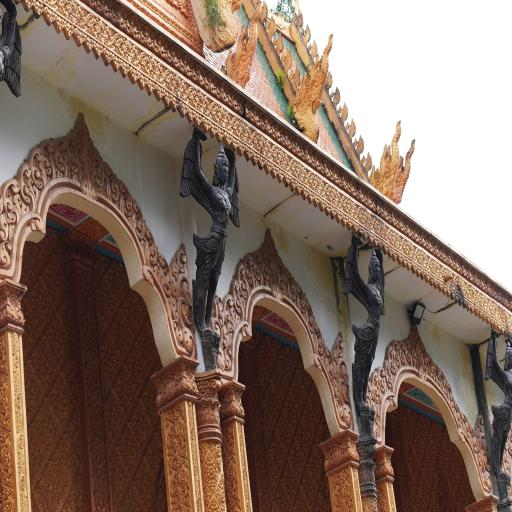la: (73, 112, 95, 178), (16, 159, 40, 213), (87, 11, 113, 50), (114, 31, 140, 69), (25, 144, 46, 190), (262, 228, 278, 288), (164, 67, 189, 104), (1, 180, 22, 224), (87, 441, 109, 483), (65, 131, 83, 182), (72, 230, 96, 268), (80, 314, 100, 358), (83, 354, 103, 398), (86, 397, 106, 441), (0, 427, 15, 485), (102, 156, 120, 204), (322, 435, 350, 464), (38, 138, 57, 180), (141, 50, 163, 86), (60, 0, 87, 29), (143, 217, 158, 269), (332, 477, 355, 510), (7, 285, 25, 327), (78, 272, 96, 314), (91, 142, 106, 192), (229, 277, 246, 321), (117, 173, 133, 219), (210, 100, 232, 132), (189, 85, 211, 116), (0, 373, 12, 427), (132, 193, 146, 239), (409, 322, 422, 371), (157, 247, 171, 292), (176, 273, 194, 308), (259, 243, 273, 287), (176, 294, 194, 328), (233, 115, 252, 147), (55, 135, 69, 178), (252, 129, 272, 159), (223, 292, 237, 334), (91, 483, 111, 512), (235, 259, 249, 298), (290, 157, 308, 186), (272, 143, 290, 172), (243, 252, 257, 289), (276, 250, 287, 295), (174, 243, 189, 275), (252, 247, 264, 287), (308, 170, 325, 198), (13, 393, 24, 436), (18, 474, 30, 512), (384, 343, 398, 375), (305, 292, 316, 332), (0, 483, 15, 512), (110, 0, 124, 31), (214, 290, 226, 326), (125, 10, 139, 40), (285, 264, 296, 302), (295, 276, 306, 314), (342, 194, 358, 220), (326, 182, 342, 208), (16, 434, 26, 475), (153, 29, 166, 60), (166, 40, 179, 70), (372, 216, 388, 240), (383, 359, 395, 391), (389, 338, 401, 370), (372, 452, 386, 479), (371, 372, 382, 406), (348, 432, 360, 463), (13, 354, 22, 395), (191, 60, 204, 88), (337, 358, 351, 384), (341, 402, 354, 430), (140, 20, 152, 50), (179, 49, 191, 79), (0, 336, 9, 376), (212, 316, 223, 348), (376, 365, 387, 397), (337, 379, 351, 404), (0, 240, 12, 269), (315, 317, 324, 355), (358, 206, 372, 230), (383, 449, 395, 477), (40, 464, 56, 485), (53, 480, 65, 508), (324, 342, 334, 375), (334, 334, 347, 359), (420, 340, 429, 376), (204, 68, 215, 97), (54, 408, 69, 429), (402, 238, 416, 260), (388, 228, 402, 250), (32, 480, 46, 502), (0, 208, 9, 242), (216, 78, 227, 105), (249, 102, 260, 129), (173, 318, 184, 345), (48, 416, 60, 440), (31, 380, 43, 404), (260, 110, 271, 136), (416, 247, 429, 269), (460, 410, 470, 438), (0, 287, 7, 326), (40, 433, 53, 454), (30, 415, 43, 436), (228, 86, 238, 113), (239, 93, 249, 120), (398, 338, 407, 368), (95, 0, 109, 19), (58, 472, 72, 491), (37, 372, 51, 391), (34, 445, 46, 467), (45, 356, 57, 378), (271, 118, 281, 144), (301, 140, 311, 166), (170, 294, 180, 320), (39, 400, 52, 420), (53, 376, 66, 396), (29, 253, 44, 270), (102, 45, 113, 68), (39, 266, 50, 289), (429, 257, 441, 278), (43, 6, 55, 27), (138, 297, 150, 318), (291, 133, 301, 158), (310, 148, 320, 173), (20, 300, 30, 325), (25, 258, 35, 283), (446, 376, 454, 407), (470, 422, 478, 453), (34, 312, 47, 331), (63, 18, 74, 40), (67, 454, 78, 476), (28, 319, 39, 341), (60, 332, 71, 354), (282, 126, 292, 150), (320, 156, 330, 180), (338, 168, 348, 192), (466, 283, 478, 303), (454, 275, 466, 295), (178, 98, 188, 122), (427, 350, 435, 380), (454, 398, 462, 428), (30, 492, 42, 512), (72, 445, 84, 465), (43, 296, 53, 320), (48, 286, 60, 306), (52, 348, 66, 365), (499, 308, 512, 326), (96, 252, 109, 270), (97, 278, 110, 296), (404, 337, 412, 366), (478, 291, 489, 312), (442, 265, 453, 286), (46, 388, 57, 409), (28, 352, 39, 373), (61, 364, 71, 387), (44, 326, 54, 349), (32, 0, 44, 19), (56, 437, 68, 456), (36, 339, 48, 358), (32, 278, 44, 297), (433, 359, 441, 387), (489, 299, 500, 319), (84, 34, 94, 56), (93, 40, 103, 62), (129, 64, 139, 86), (11, 332, 21, 354), (49, 452, 60, 472), (56, 272, 66, 294), (101, 305, 112, 325), (329, 162, 338, 186), (347, 175, 356, 199), (439, 367, 447, 394), (23, 364, 35, 382), (110, 260, 122, 278), (74, 26, 84, 47), (169, 257, 179, 278), (64, 424, 74, 445), (64, 392, 74, 413), (75, 473, 86, 492), (108, 324, 119, 343), (403, 216, 412, 239), (57, 302, 66, 325), (46, 257, 58, 274), (126, 320, 138, 337), (54, 14, 64, 34), (120, 60, 130, 80), (68, 489, 78, 509), (27, 425, 37, 445), (22, 334, 32, 354), (26, 292, 36, 312), (107, 294, 117, 314), (112, 52, 121, 74), (71, 411, 82, 429), (45, 232, 56, 250), (105, 267, 114, 289), (112, 286, 123, 304), (118, 302, 129, 320), (356, 180, 364, 204), (364, 186, 372, 210), (396, 210, 404, 234), (114, 314, 126, 330), (40, 242, 50, 261), (155, 83, 164, 104), (26, 399, 35, 420), (134, 306, 143, 327), (126, 292, 137, 309), (372, 192, 380, 215), (139, 70, 147, 93), (146, 78, 155, 98), (70, 383, 80, 401), (50, 314, 60, 332), (426, 232, 434, 254), (432, 238, 440, 260), (96, 289, 104, 311), (244, 145, 253, 164), (116, 342, 126, 359), (380, 199, 388, 220), (20, 0, 34, 12), (163, 88, 171, 109), (194, 110, 202, 131), (223, 130, 232, 148), (388, 206, 396, 226), (418, 228, 426, 248), (452, 253, 460, 273), (477, 270, 485, 290), (484, 276, 492, 296), (187, 106, 195, 126), (202, 116, 210, 136), (68, 350, 78, 366), (119, 274, 127, 294), (43, 500, 56, 512), (466, 262, 473, 284), (66, 324, 75, 341), (439, 244, 447, 263), (125, 329, 133, 348), (446, 247, 453, 268), (238, 141, 246, 159), (277, 168, 285, 186), (296, 181, 304, 199), (496, 284, 503, 304), (171, 94, 178, 114), (210, 121, 217, 141), (264, 159, 272, 176), (64, 293, 72, 310), (472, 267, 479, 286), (490, 281, 497, 300), (412, 222, 418, 244), (60, 501, 72, 512), (20, 274, 30, 287), (232, 136, 239, 154), (271, 162, 278, 180), (318, 198, 326, 213), (335, 209, 343, 224), (258, 155, 265, 172), (460, 258, 466, 277), (502, 288, 508, 307), (252, 151, 259, 167), (284, 172, 291, 188), (290, 178, 297, 194), (24, 240, 32, 254), (363, 227, 369, 245), (330, 207, 336, 223), (342, 212, 348, 228), (352, 220, 358, 236), (392, 248, 398, 264), (416, 264, 422, 280), (424, 270, 430, 286), (507, 293, 512, 311), (347, 217, 353, 232), (378, 238, 384, 253), (383, 241, 389, 256), (397, 252, 403, 267), (302, 186, 308, 200), (368, 232, 374, 246), (407, 258, 413, 272), (411, 261, 417, 275), (420, 268, 426, 282), (466, 299, 472, 313), (473, 305, 479, 319), (358, 224, 363, 240), (388, 244, 393, 260), (402, 255, 408, 268), (438, 279, 444, 292), (325, 202, 330, 217), (446, 286, 452, 298), (458, 295, 464, 307), (497, 322, 503, 334), (308, 190, 313, 204), (314, 194, 319, 208), (442, 282, 447, 296), (454, 291, 459, 304), (493, 319, 498, 332), (374, 235, 378, 251), (434, 276, 438, 291), (450, 289, 455, 301), (462, 296, 467, 308), (478, 308, 483, 320), (430, 274, 434, 288), (482, 310, 486, 323), (486, 313, 490, 326), (490, 316, 494, 328), (504, 326, 508, 338), (508, 329, 512, 341), (470, 303, 474, 314), (501, 324, 504, 338)
lua: (363, 144, 373, 175), (301, 22, 312, 50), (284, 44, 293, 78), (292, 61, 302, 91), (294, 6, 305, 33), (309, 35, 318, 63), (333, 80, 341, 110), (356, 130, 364, 159), (340, 98, 348, 126), (276, 30, 284, 58), (348, 115, 356, 142), (326, 68, 333, 98), (269, 15, 276, 43), (29, 464, 39, 482), (261, 0, 268, 25)
ran: (290, 32, 336, 148), (370, 110, 418, 208), (223, 0, 265, 88), (206, 0, 243, 54)
than: (175, 125, 249, 367), (324, 220, 380, 488), (479, 322, 512, 509), (68, 366, 79, 388), (49, 271, 58, 296), (52, 330, 61, 352), (38, 356, 48, 375), (34, 295, 43, 316), (117, 329, 126, 347), (78, 490, 85, 512), (46, 483, 54, 502), (74, 429, 82, 448), (28, 444, 35, 465), (42, 418, 50, 436), (67, 307, 74, 327), (112, 274, 120, 290), (129, 303, 135, 323), (22, 319, 28, 337), (32, 241, 40, 254)
